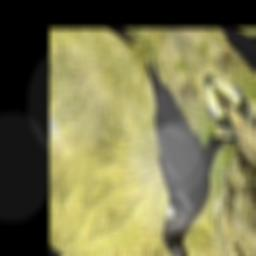Crow: (71, 39, 256, 256)
